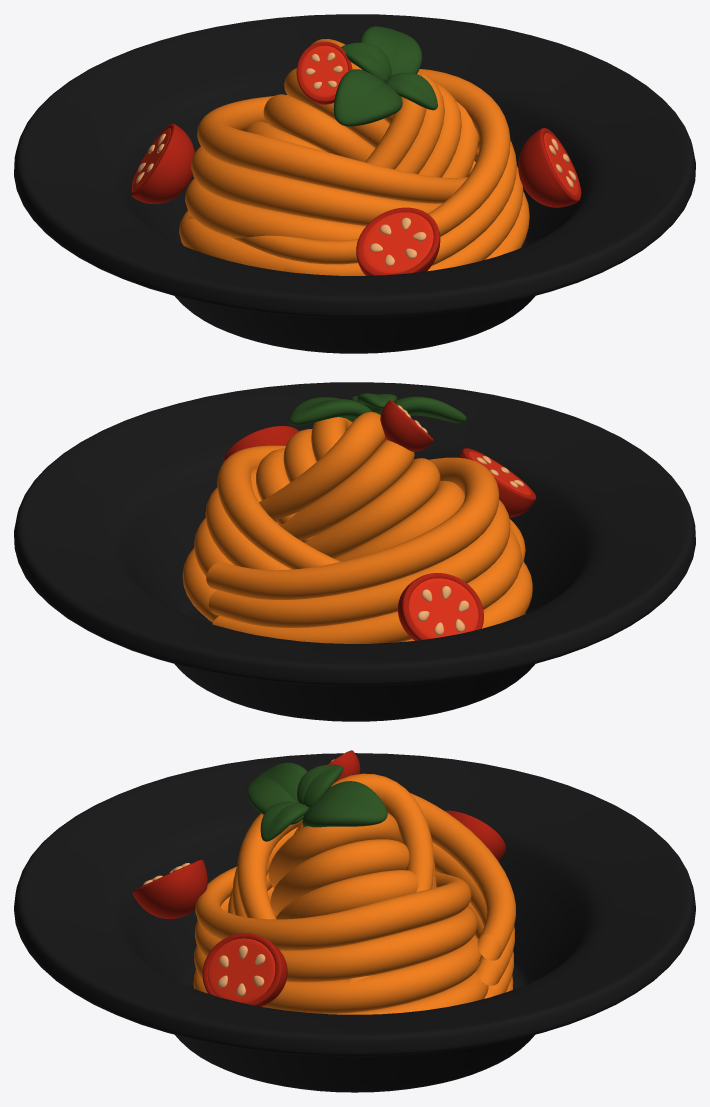
The picture shows the model from 3 angles, top to bottom: view 1: azimuth 30°, elevation 25°; view 2: azimuth 150°, elevation 25°; view 3: azimuth 270°, elevation 25°; orthographic projection.
Parts seen in each view (by area): view 1: Circle.016, Circle.018, Circle.017, Circle.019, Circle.021, Sphere, Plane.033, Sphere.015, Sphere.005, Plane.032, Sphere.025, Sphere.001 (+5 smaller); view 2: Circle.016, Circle.018, Circle.021, Circle.017, Circle.019, Sphere.014, Plane.032, Sphere.026, Sphere.015, Plane.033, Sphere.001, Sphere.005 (+1 smaller); view 3: Circle.016, Circle.017, Circle.018, Circle.019, Circle.021, Sphere.004, Plane.032, Sphere.001, Plane.033, Sphere.005, Plane.034, Plane.035 (+1 smaller).
Boxes of the visible parts, bbox=[...] form: Circle.016: bbox=[14, 14, 695, 353]; Circle.018: bbox=[179, 95, 467, 271]; Circle.017: bbox=[188, 69, 529, 275]; Circle.019: bbox=[365, 70, 478, 178]; Circle.021: bbox=[245, 39, 479, 176]; Sphere: bbox=[362, 212, 433, 273]; Plane.033: bbox=[333, 69, 402, 126]; Sphere.015: bbox=[131, 123, 194, 203]; Sphere.005: bbox=[518, 128, 581, 207]; Plane.032: bbox=[360, 26, 422, 75]; Sphere.025: bbox=[300, 45, 348, 97]; Sphere.001: bbox=[356, 207, 440, 275]; Circle.016: bbox=[14, 382, 695, 721]; Circle.018: bbox=[206, 457, 532, 643]; Circle.021: bbox=[259, 412, 464, 561]; Circle.017: bbox=[182, 445, 525, 622]; Circle.019: bbox=[251, 417, 352, 542]; Sphere.014: bbox=[408, 578, 478, 638]; Plane.032: bbox=[288, 397, 372, 425]; Sphere.026: bbox=[380, 400, 433, 451]; Sphere.015: bbox=[398, 573, 483, 640]; Plane.033: bbox=[377, 396, 466, 423]; Sphere.001: bbox=[458, 448, 536, 517]; Sphere.005: bbox=[223, 426, 298, 462]; Circle.016: bbox=[14, 753, 695, 1092]; Circle.017: bbox=[193, 866, 488, 1014]; Circle.018: bbox=[228, 793, 515, 998]; Circle.019: bbox=[268, 813, 418, 919]; Circle.021: bbox=[294, 773, 436, 984]; Sphere.004: bbox=[207, 938, 275, 1003]; Plane.032: bbox=[302, 781, 387, 827]; Sphere.001: bbox=[132, 859, 207, 918]; Plane.033: bbox=[246, 762, 309, 824]; Sphere.005: bbox=[202, 933, 287, 1006]; Plane.034: bbox=[297, 764, 343, 807]; Plane.035: bbox=[260, 801, 308, 841].
Size of the model in its own units: 3.37 by 1.36 by 3.37.
